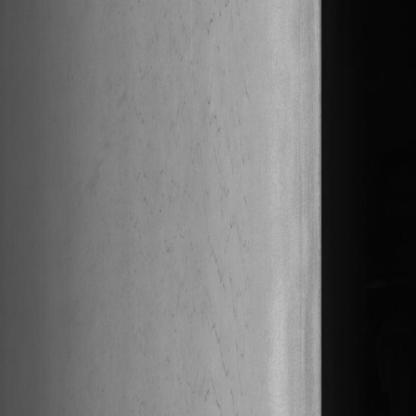silk_spot: (178, 90, 253, 406)
